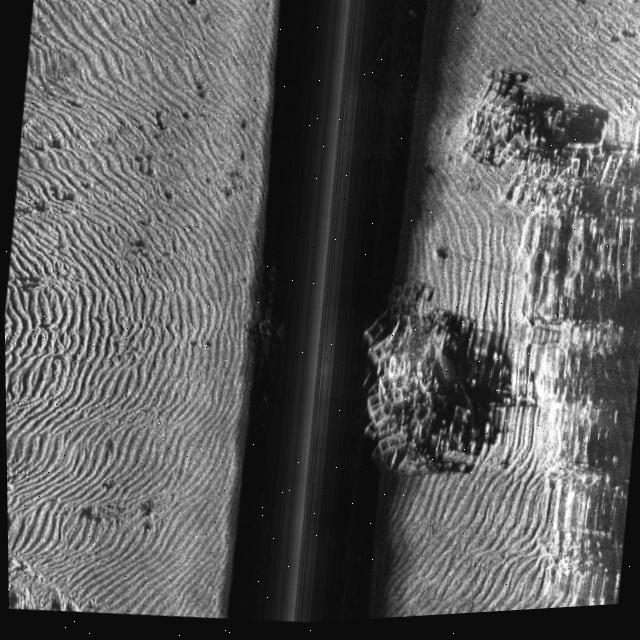artificial reef: (337, 252, 486, 482), (443, 70, 608, 245), (239, 235, 300, 390)
